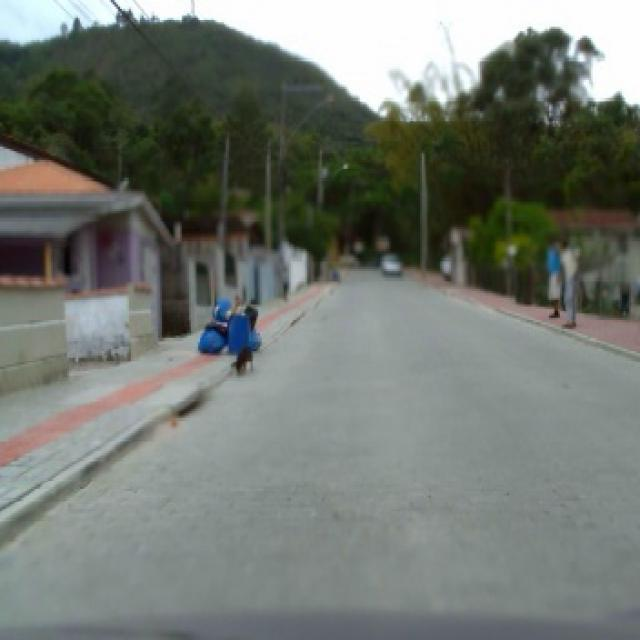Poth-hole: (174, 391, 210, 418)
